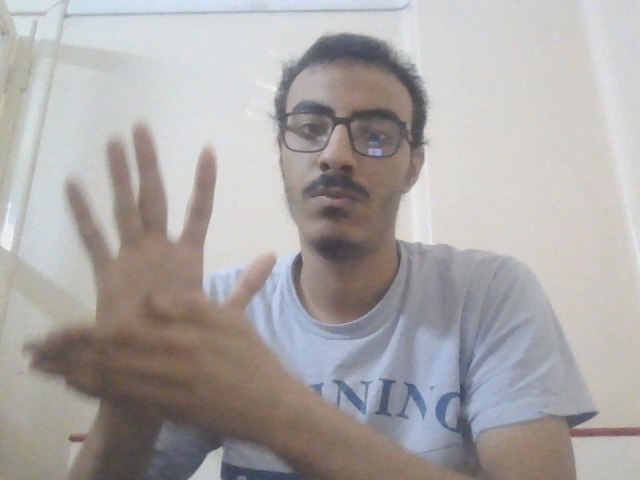Movie: (17, 113, 286, 452)
